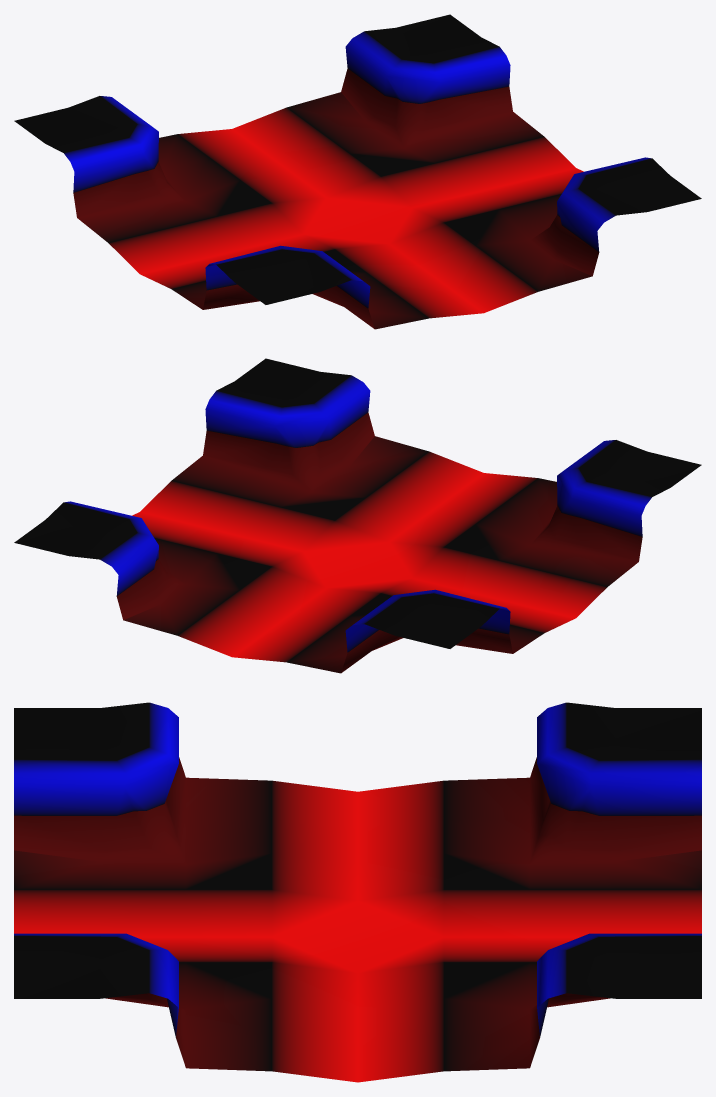
The model's file is 4way_path1.fbx.
3 renders of one model, top to bottom at view 1: azimuth 30°, elevation 25°; view 2: azimuth 150°, elevation 25°; view 3: azimuth 270°, elevation 25°, orthographic. The views are drawn at different scales.
Visible parts, largest first — view 1: 4Way_Path; view 2: 4Way_Path; view 3: 4Way_Path.
Part boxes in pixels (x1=…): 4Way_Path: x1=14, y1=14, x2=701, y2=329; 4Way_Path: x1=14, y1=358, x2=701, y2=673; 4Way_Path: x1=14, y1=702, x2=701, y2=1082.
Size of the model in its own units: 2560 by 367 by 2560.
